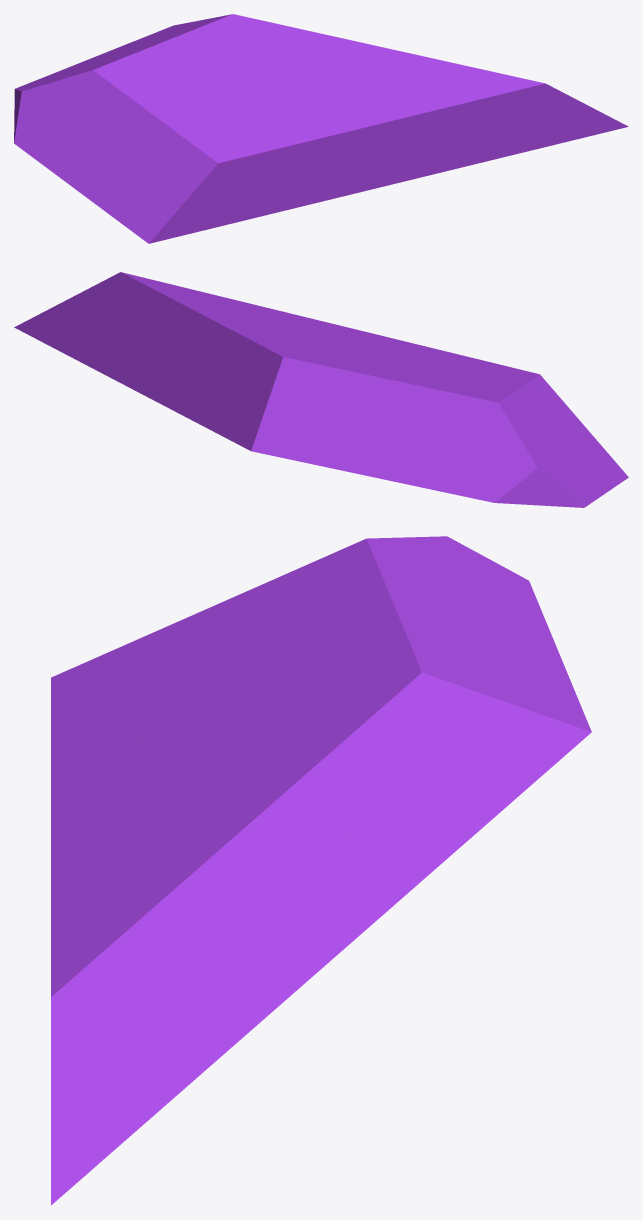
Rendered from Window_138_4_chunks.fbx.
The picture shows the model from 3 angles, top to bottom: view 1: azimuth 30°, elevation 25°; view 2: azimuth 150°, elevation 25°; view 3: azimuth 270°, elevation 25°; orthographic projection. The views are drawn at different scales.
Visible parts, largest first — view 1: Window_138_4_0, Window_138_4_3, Window_138_4_2, Window_138_4_1, Window_138_4_4, Window_138_4_5, Window_138_4_6; view 2: Window_138_4_0, Window_138_4_3, Window_138_4_6, Window_138_4_1, Window_138_4_9, Window_138_4_7, Window_138_4_8, Window_138_4_2, Window_138_4_5, Window_138_4_4; view 3: Window_138_4_3, Window_138_4_1, Window_138_4_0, Window_138_4_7, Window_138_4_9, Window_138_4_5, Window_138_4_8, Window_138_4_2, Window_138_4_4, Window_138_4_6.
Boxes of the visible parts, bbox=[...] form: Window_138_4_0: bbox=[14, 45, 204, 243]; Window_138_4_3: bbox=[332, 52, 628, 198]; Window_138_4_2: bbox=[178, 90, 332, 236]; Window_138_4_1: bbox=[142, 14, 366, 106]; Window_138_4_4: bbox=[267, 96, 409, 198]; Window_138_4_5: bbox=[250, 46, 406, 105]; Window_138_4_6: bbox=[96, 18, 218, 56]; Window_138_4_0: bbox=[371, 373, 628, 507]; Window_138_4_3: bbox=[14, 272, 301, 365]; Window_138_4_6: bbox=[237, 370, 374, 476]; Window_138_4_1: bbox=[221, 321, 458, 415]; Window_138_4_9: bbox=[199, 334, 289, 443]; Window_138_4_7: bbox=[88, 357, 230, 440]; Window_138_4_8: bbox=[108, 317, 235, 359]; Window_138_4_2: bbox=[385, 349, 583, 424]; Window_138_4_5: bbox=[187, 309, 392, 358]; Window_138_4_4: bbox=[294, 314, 476, 358]; Window_138_4_3: bbox=[51, 814, 242, 1205]; Window_138_4_1: bbox=[204, 586, 460, 812]; Window_138_4_0: bbox=[110, 536, 560, 657]; Window_138_4_7: bbox=[219, 772, 545, 1058]; Window_138_4_9: bbox=[317, 673, 558, 838]; Window_138_4_5: bbox=[133, 699, 251, 863]; Window_138_4_8: bbox=[224, 767, 331, 1017]; Window_138_4_2: bbox=[51, 652, 216, 740]; Window_138_4_4: bbox=[51, 725, 153, 864]; Window_138_4_6: bbox=[439, 631, 591, 760].
Size of the model in its own units: 874 by 187 by 386.
